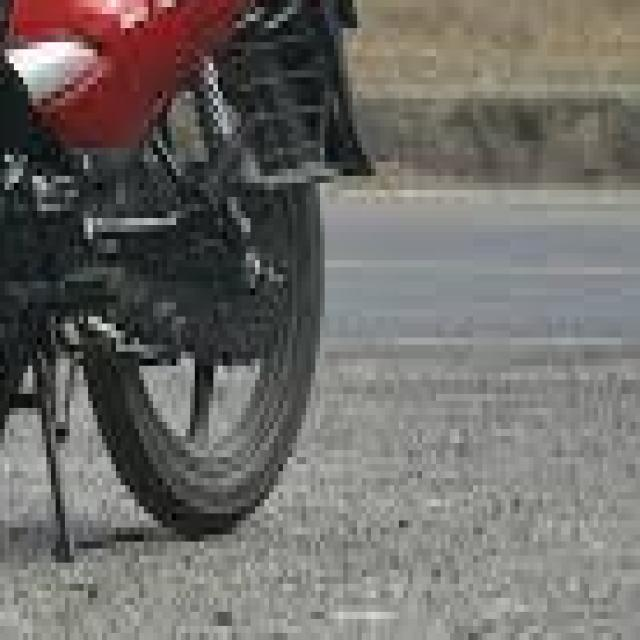bike: (0, 0, 408, 584)
